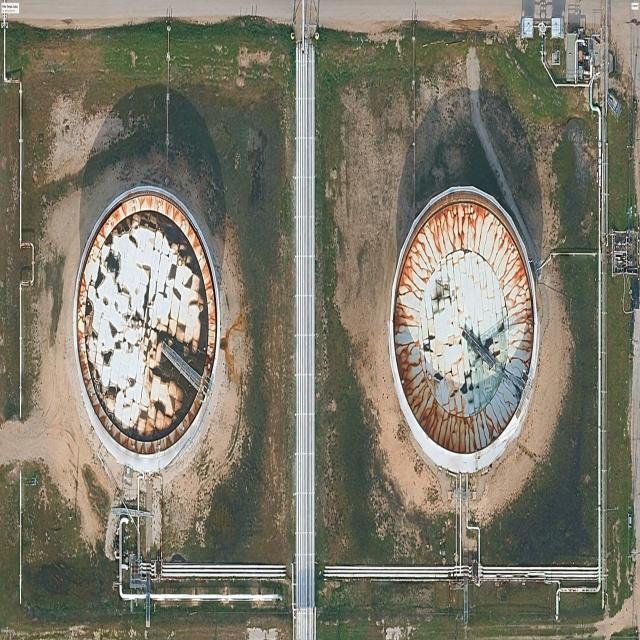Oil Rafinery: (389, 187, 540, 472), (74, 188, 219, 469)
